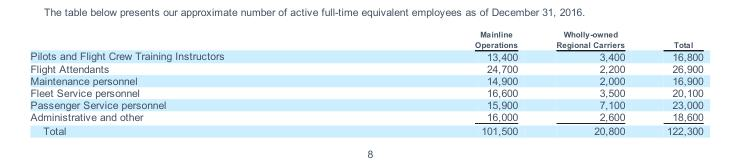table: (29, 29, 702, 136)
table column: (29, 29, 348, 136), (348, 29, 536, 136), (536, 29, 645, 136), (645, 29, 702, 136)
table column header: (29, 29, 702, 49)
table row: (29, 29, 702, 49), (29, 49, 702, 62), (29, 110, 702, 123), (29, 123, 702, 136), (29, 62, 702, 74), (29, 74, 702, 86), (29, 86, 702, 98), (29, 98, 702, 110)
